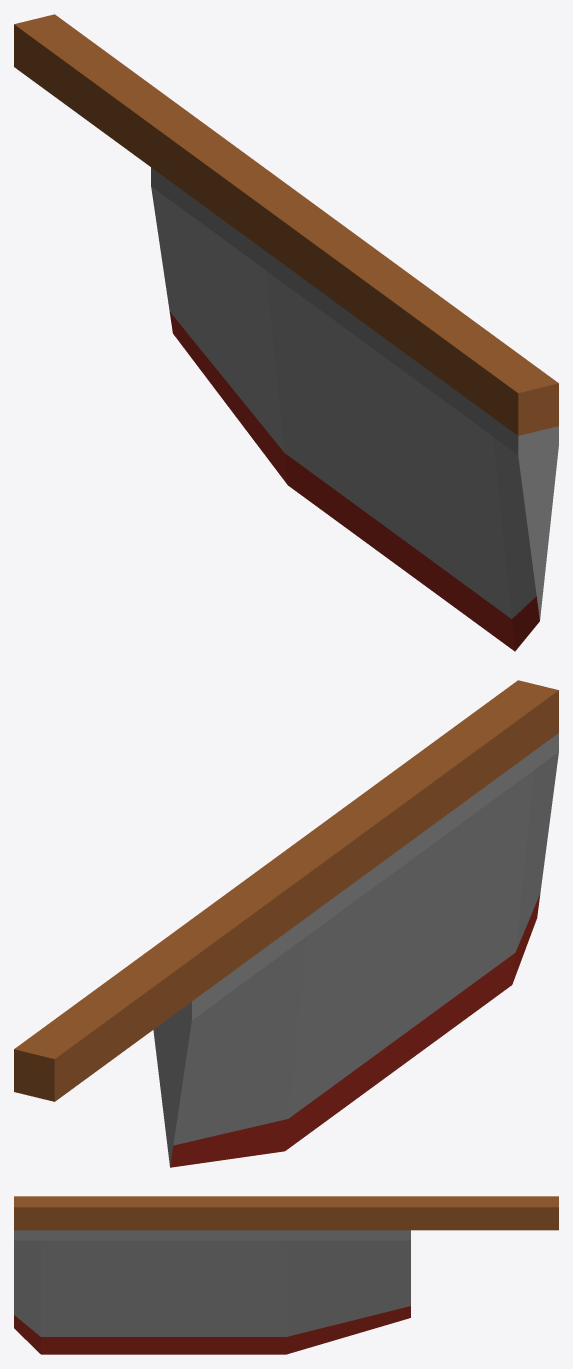
Rendered from giant cleaver.glb.
3 views of the same model, one above another, from view 1: azimuth 30°, elevation 25°; view 2: azimuth 150°, elevation 25°; view 3: azimuth 270°, elevation 25° (orthographic). The views are drawn at different scales.
Parts seen in each view (by area): view 1: Cube; view 2: Cube; view 3: Cube.
Boxes of the visible parts, x1,y1,x2,y2 form: Cube: (14, 14, 558, 651); Cube: (14, 680, 558, 1167); Cube: (14, 1196, 558, 1354).
Size of the model in its own units: 0.4045 by 2.67 by 8.65.
